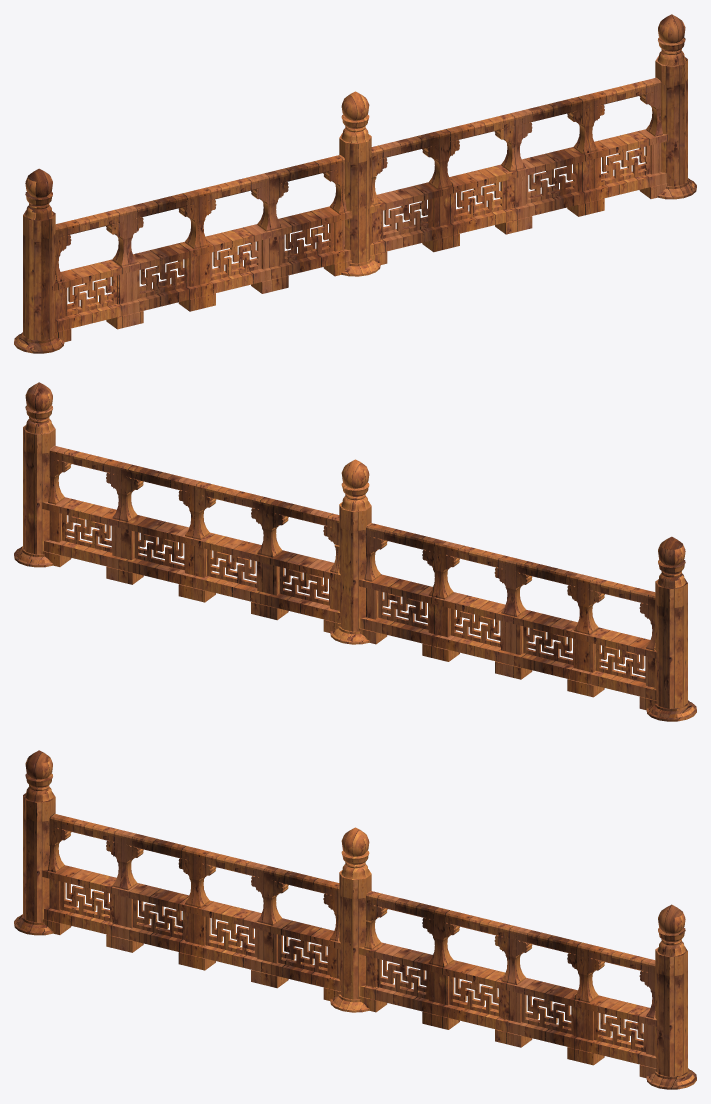
File: Fence-Wood.obj
The picture shows the model from 3 angles, top to bottom: view 1: azimuth 30°, elevation 25°; view 2: azimuth 150°, elevation 25°; view 3: azimuth 330°, elevation 25°; orthographic projection.
Parts seen in each view (by area): view 1: Obj3d66-683776-7-89_网格.006; view 2: Obj3d66-683776-7-89_网格.006; view 3: Obj3d66-683776-7-89_网格.006.
Boxes of the visible parts, x1,y1,x2,y2 form: Obj3d66-683776-7-89_网格.006: (14,14,696,353); Obj3d66-683776-7-89_网格.006: (14,382,696,721); Obj3d66-683776-7-89_网格.006: (14,750,696,1089).
Size of the model in its own units: 7.7 by 1.9 by 0.5023.
Materials: 1 (1 with a texture image).
